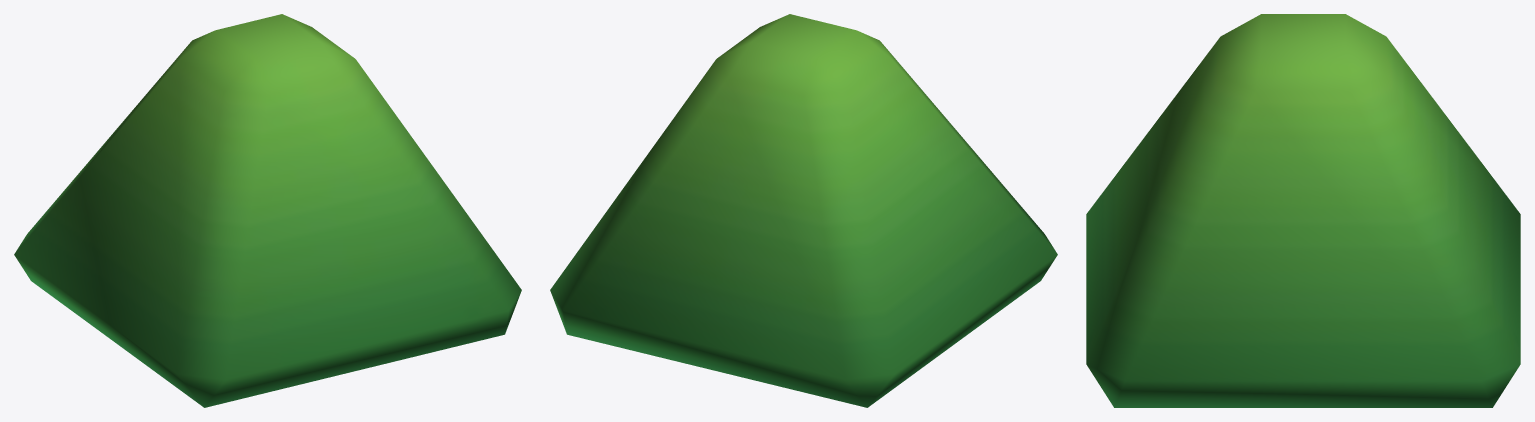
Rendered from Bush_4_A.glb.
3 renders of one model, left to right at view 1: azimuth 30°, elevation 25°; view 2: azimuth 150°, elevation 25°; view 3: azimuth 270°, elevation 25°, orthographic. The views are drawn at different scales.
Parts seen in each view (by area): view 1: Bush_4_A_Color1; view 2: Bush_4_A_Color1; view 3: Bush_4_A_Color1.
Part boxes in pixels (box(x1,y1,x2,y2)): Bush_4_A_Color1: box(14, 14, 521, 407); Bush_4_A_Color1: box(550, 14, 1057, 407); Bush_4_A_Color1: box(1086, 14, 1520, 407).
Bounding box in the file's own units: 0.5768 × 0.4344 × 0.5768.
Materials: 1 (1 with a texture image).
